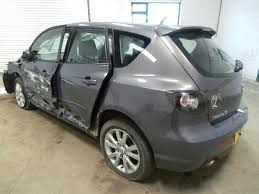Dent: (3, 62, 17, 92)
Scratch: (24, 66, 57, 115), (62, 107, 89, 131)
